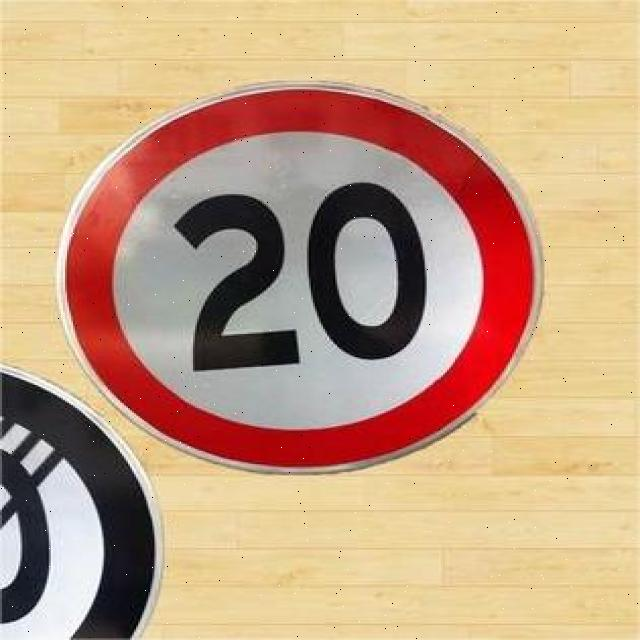speed limit 20: (53, 82, 547, 480)
